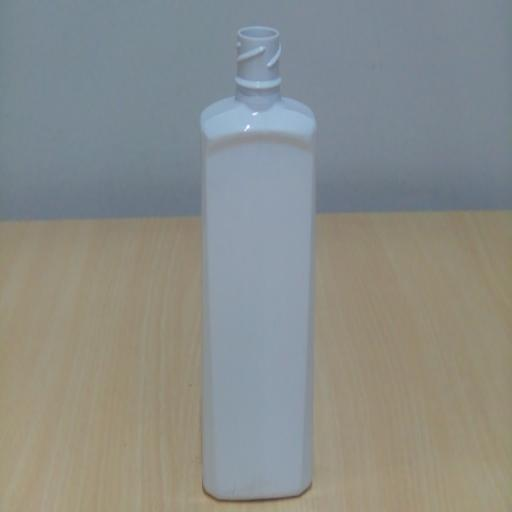Good: (192, 14, 326, 508)
